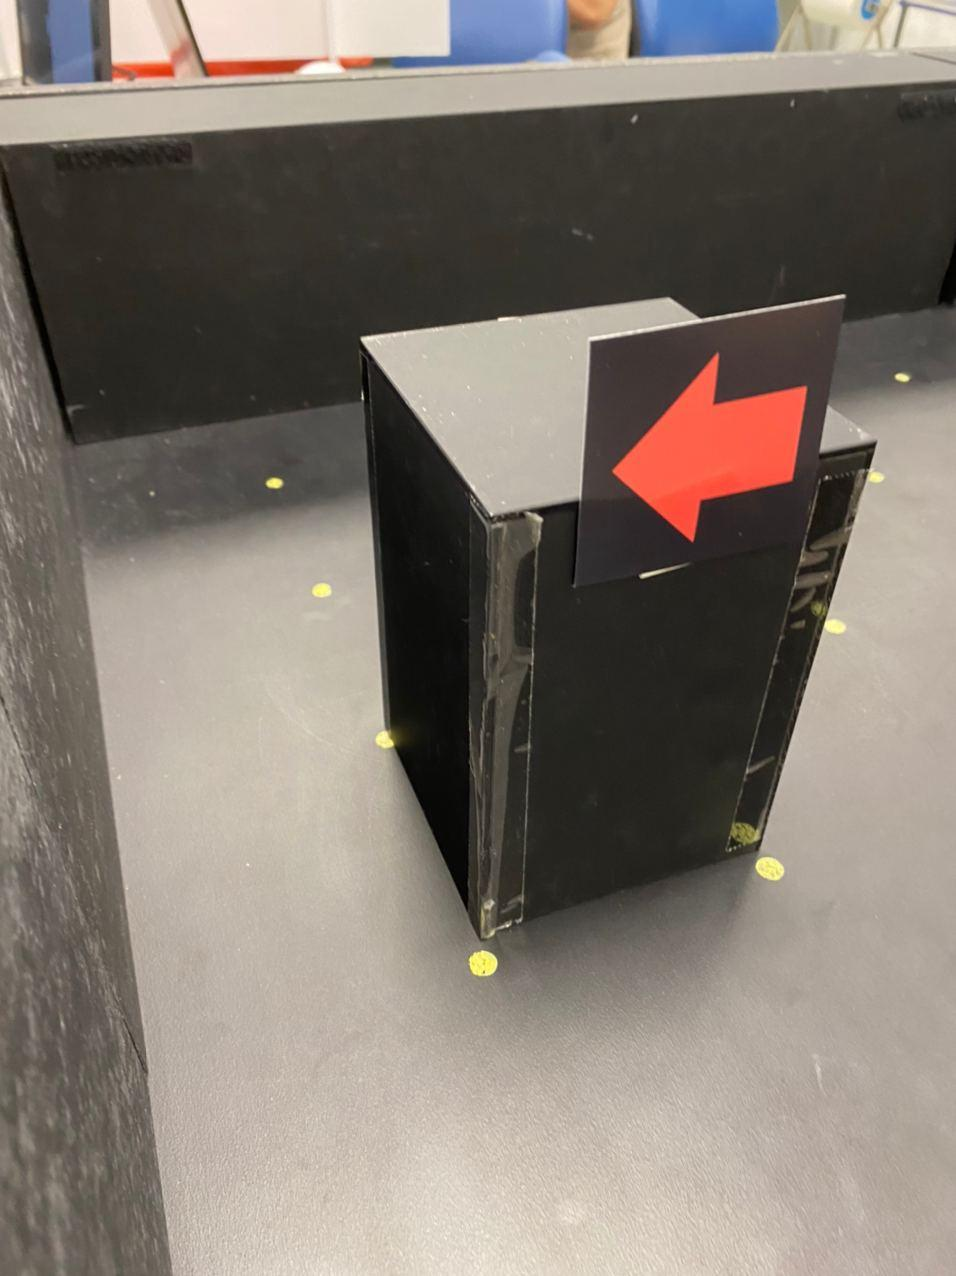left: (607, 355, 806, 553)
